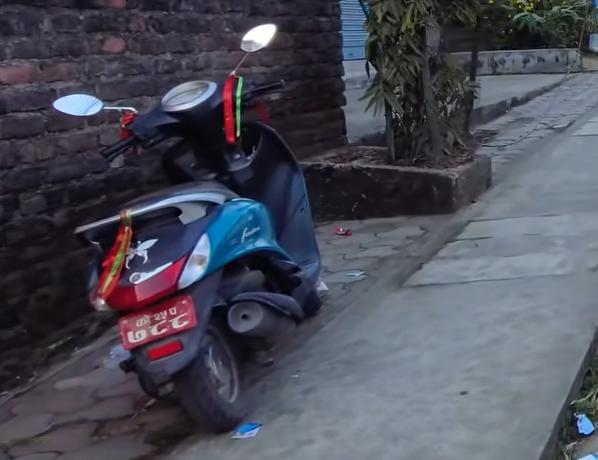scooter: (58, 26, 329, 428)
